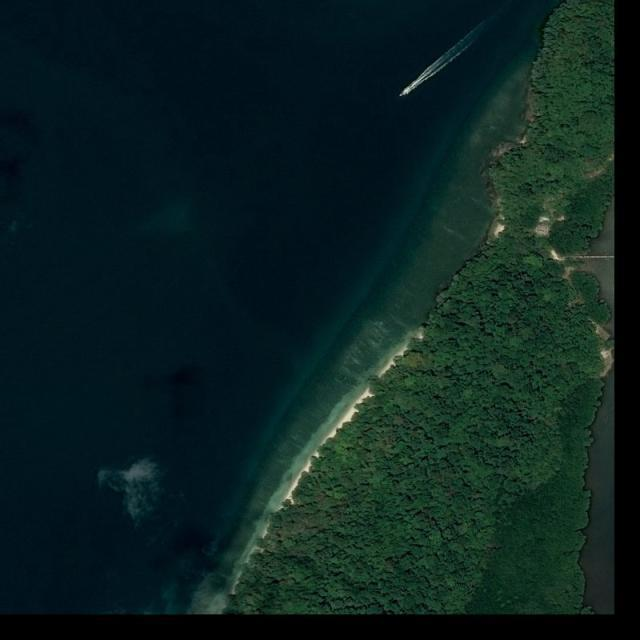ship: (398, 92, 406, 98)
